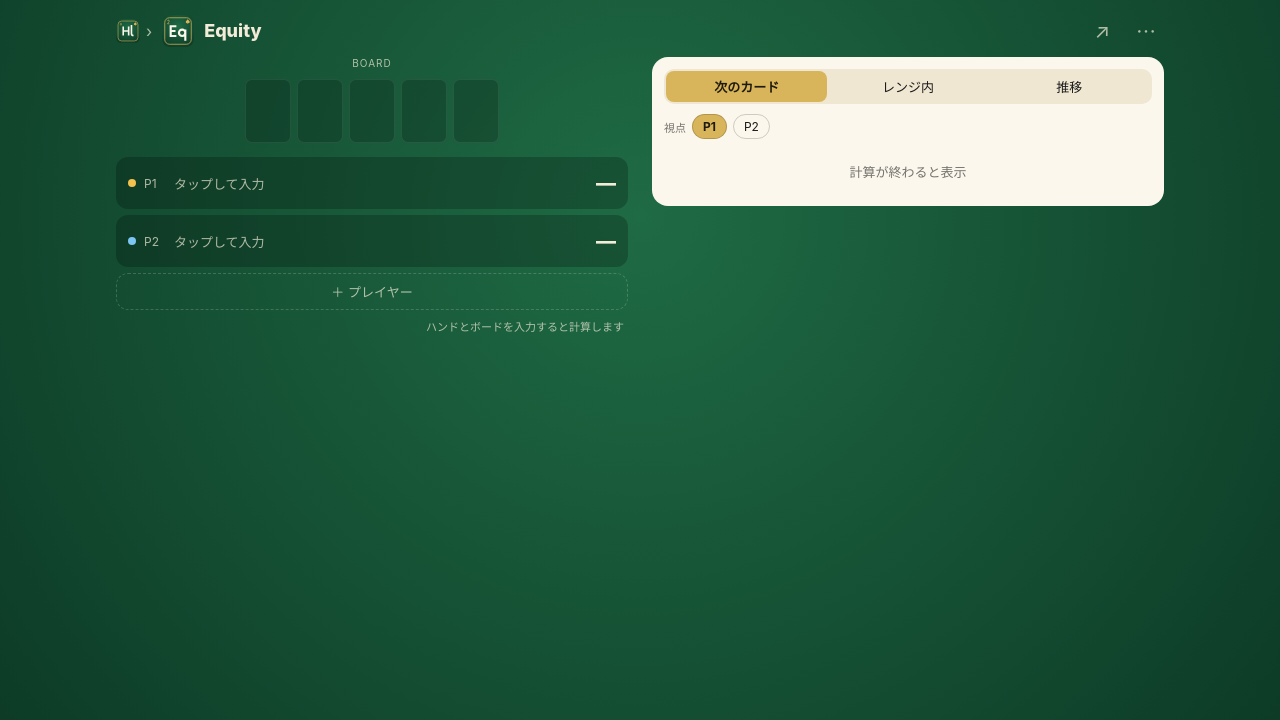
App › opens settings from the header
Click the button named "設定": (1146, 30) [1128, 12, 1164, 49]
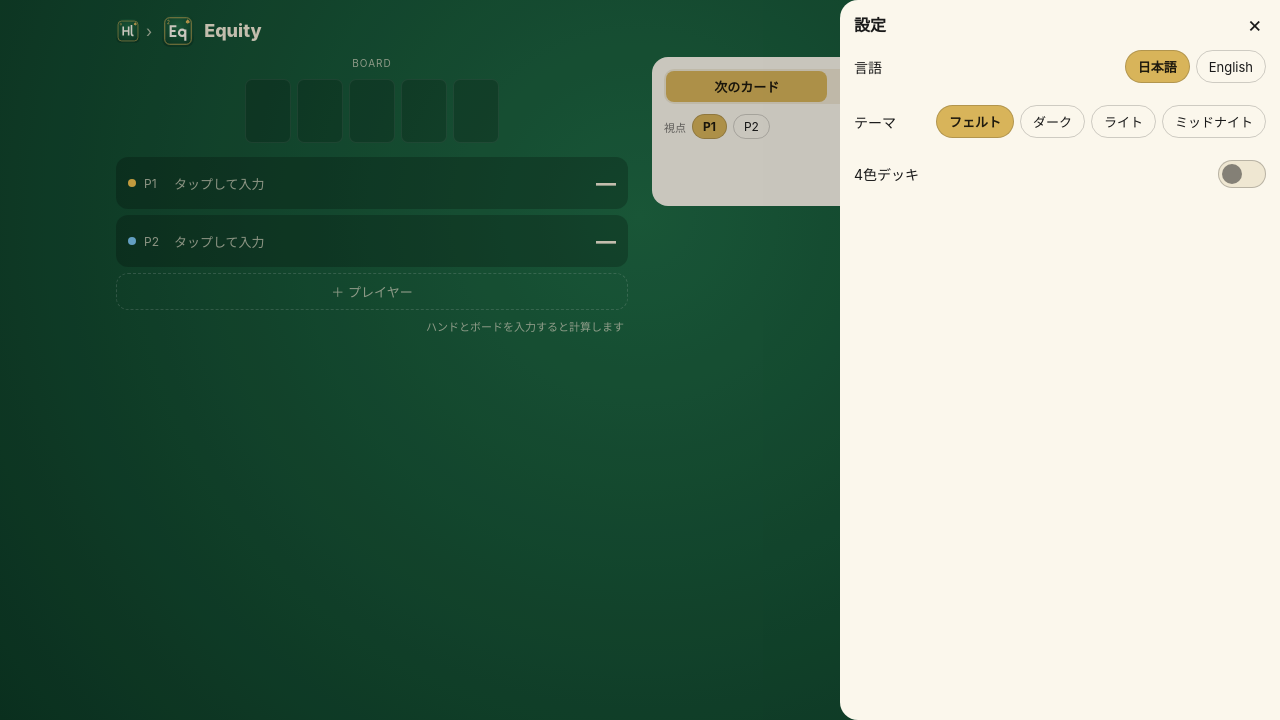
Expected: the dialog "設定" is shown, [840, 0, 1279, 719]
